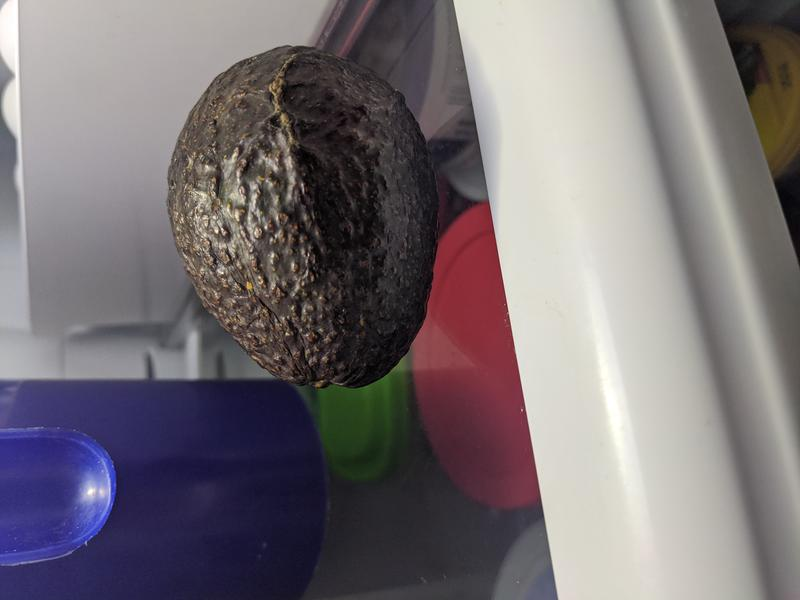avocado: (166, 44, 438, 388)
